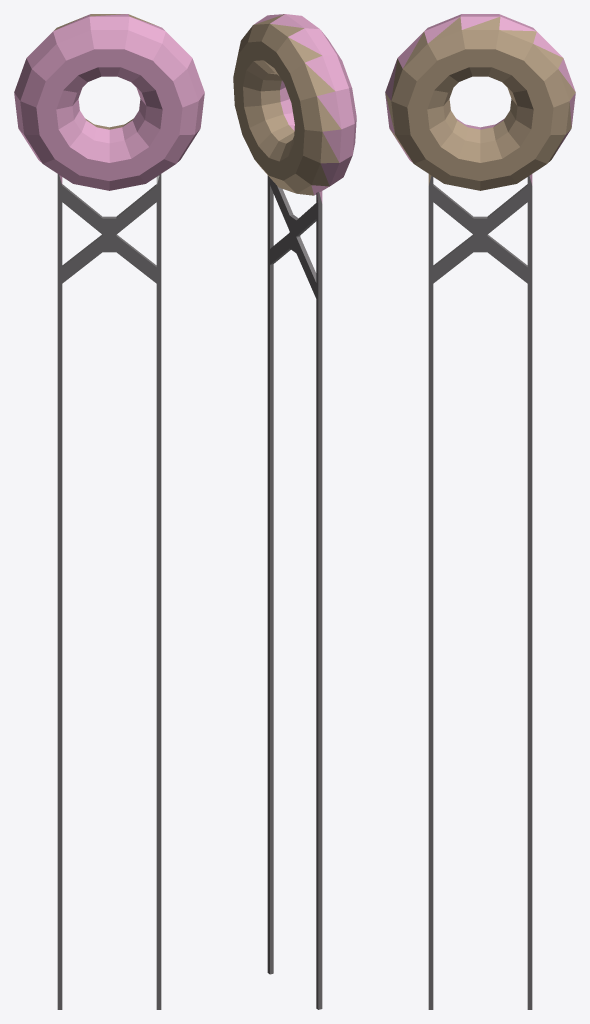
Rendered from building7.glb.
The picture shows the model from 3 angles, left to right: view 1: azimuth 90°, elevation 25°; view 2: azimuth 210°, elevation 25°; view 3: azimuth 270°, elevation 25°; orthographic projection. The views are drawn at different scales.
Visible parts, largest first — view 1: Torus; view 2: Torus; view 3: Torus.
Boxes of the visible parts, box(x1,y1,x2,y2) form: Torus: box(14, 14, 204, 1009); Torus: box(233, 14, 356, 1009); Torus: box(385, 14, 575, 1009).
Size of the model in its own units: 1.16 by 20.57 by 3.58.
Materials: 1 (1 with a texture image).
